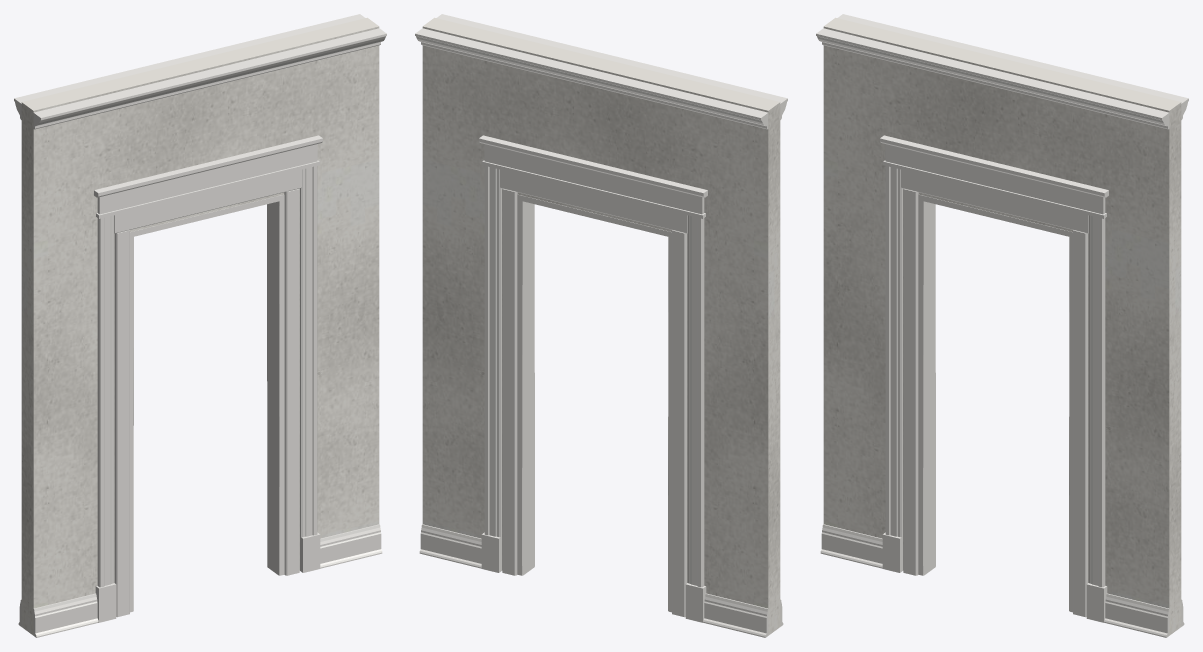
File: interior_wall_doorway.glb
The picture shows the model from 3 angles, left to right: view 1: azimuth 30°, elevation 25°; view 2: azimuth 150°, elevation 25°; view 3: azimuth 330°, elevation 25°; orthographic projection.
Parts seen in each view (by area): view 1: interior_wall_doorway_plaster, molduras, interior_wall_doorway_frame; view 2: interior_wall_doorway_plaster, molduras, interior_wall_doorway_frame; view 3: interior_wall_doorway_plaster, molduras, interior_wall_doorway_frame.
Part boxes in pixels (box(x1,y1,x2,y2)): interior_wall_doorway_plaster: box(21, 17, 379, 635); molduras: box(14, 14, 386, 637); interior_wall_doorway_frame: box(114, 169, 301, 617); interior_wall_doorway_plaster: box(422, 17, 780, 635); molduras: box(415, 14, 787, 637); interior_wall_doorway_frame: box(500, 169, 687, 617); interior_wall_doorway_plaster: box(823, 17, 1181, 635); molduras: box(816, 14, 1188, 637); interior_wall_doorway_frame: box(901, 169, 1088, 617).
Size of the model in its own units: 2 by 2.9 by 0.27.
Materials: 3 (1 with a texture image).
